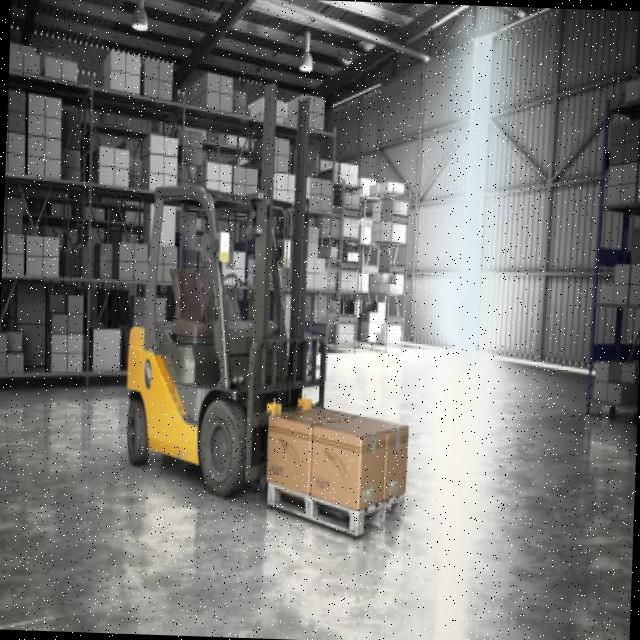Wooden-Pallets: (267, 481, 408, 539)
